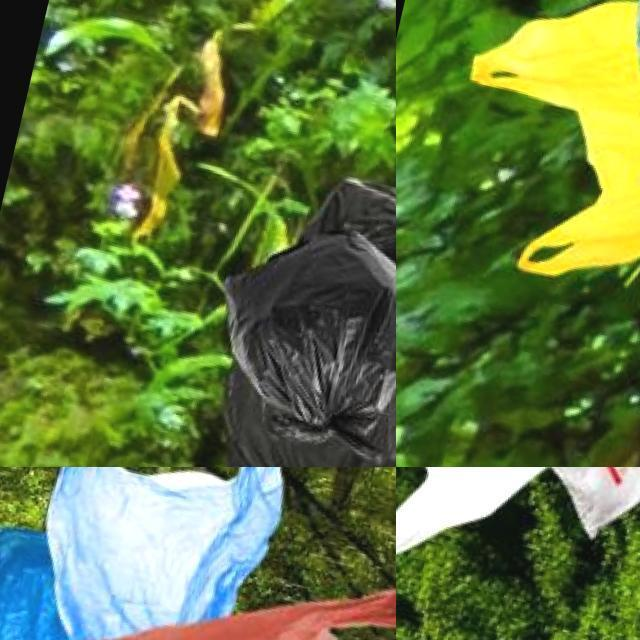waste: (431, 0, 640, 330), (218, 166, 396, 467), (14, 467, 320, 640), (188, 208, 396, 453), (46, 523, 396, 640), (396, 467, 640, 616), (0, 499, 116, 640), (518, 467, 640, 576)
